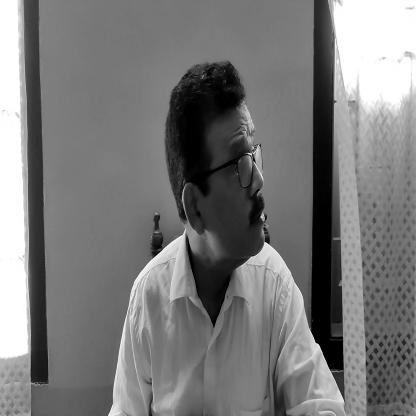Distracted: (158, 70, 274, 260)
